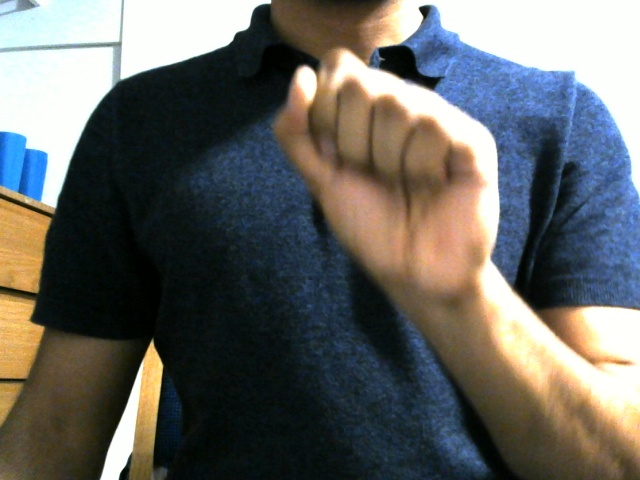A: (268, 42, 521, 306)
